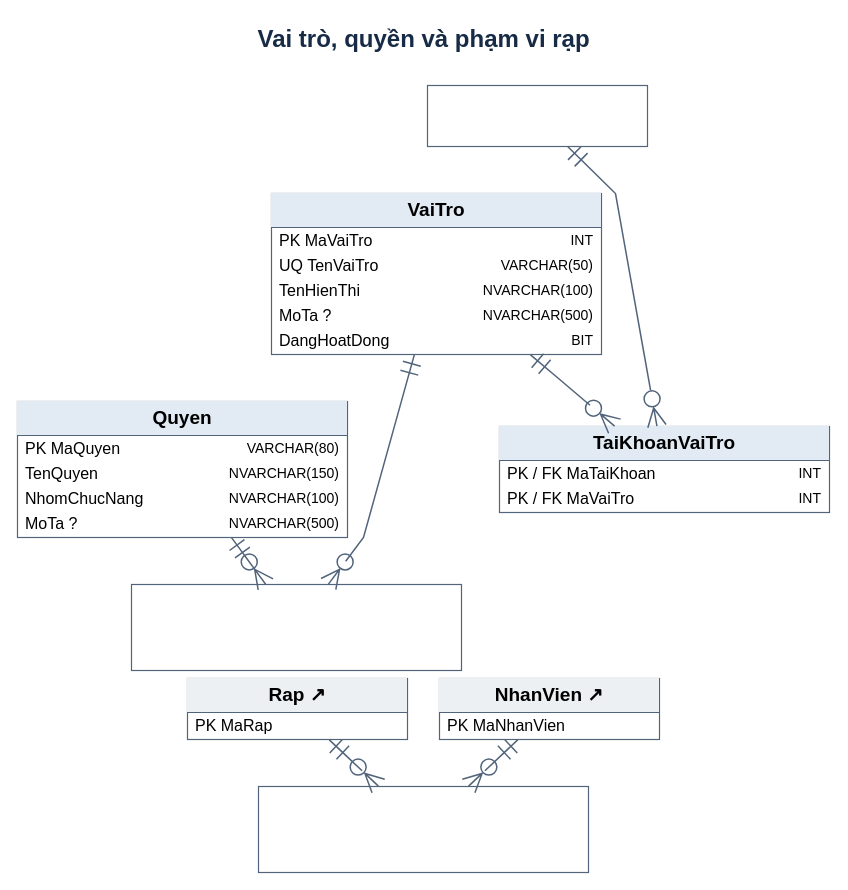
Image size: 848x890. Some labels were removed from this diagram. Here are the shapes that lost their labels. From the top down, the box of each, then its label:
(426, 84, 648, 147): TaiKhoan ↗ PK MaTaiKhoan
(130, 583, 462, 671): VaiTroQuyen PK / FK MaVaiTro INT PK / FK MaQuyen VARCHAR(80)
(257, 785, 589, 873): NhanVienRap PK / FK MaNhanVien INT PK / FK MaRap INT
